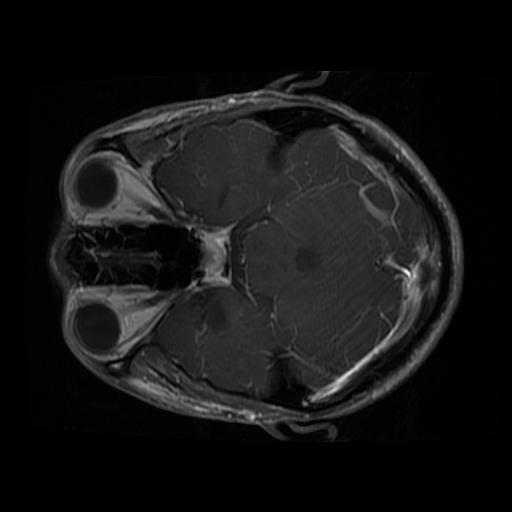glioma: (188, 288, 232, 348)
